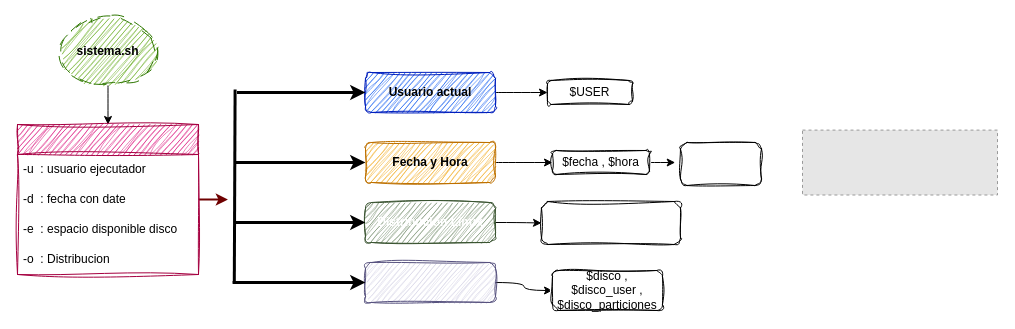
Some shapes in this 1015 by 329 pixel diagram are drawn without their labels. Grey dashed boxes stand in for pictures. The box of each missing label's shape, as (x1, y1, x2, y2) in pixels:
$distro , $kernel , $arquitectura, $endpoint, $info_adicional: (540, 200, 680, 244)
> timedatectl > date: (680, 142, 762, 186)
Argumentos: (16, 124, 198, 274)
Espacio disponible en disco: (364, 262, 496, 302)
